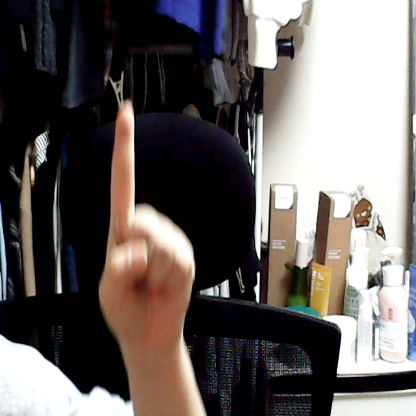Finger_1: (72, 85, 208, 331)
